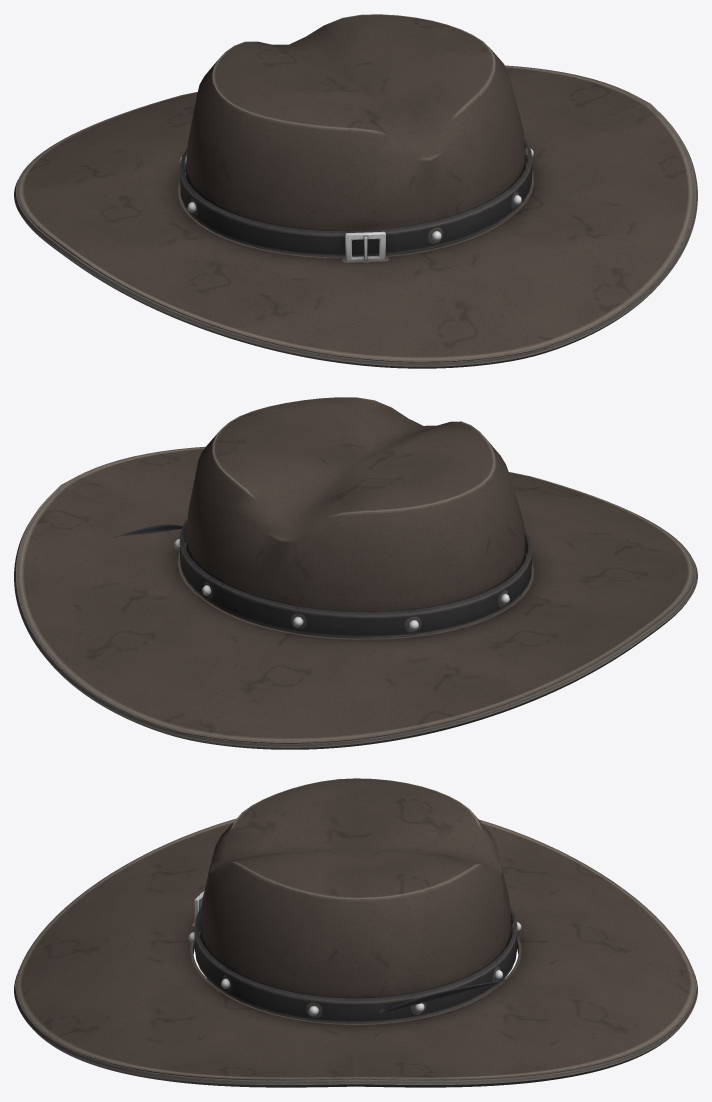
The model's file is NHAcc_HunterHat.fbx.
3 renders of one model, top to bottom at view 1: azimuth 30°, elevation 25°; view 2: azimuth 150°, elevation 25°; view 3: azimuth 270°, elevation 25°, orthographic. The views are drawn at different scales.
Parts seen in each view (by area): view 1: HunterHat; view 2: HunterHat; view 3: HunterHat.
Part boxes in pixels (x1,y1,x2,y2): HunterHat: [14, 14, 697, 368]; HunterHat: [14, 397, 697, 749]; HunterHat: [14, 778, 697, 1087].
Size of the model in its own units: 2.71 by 0.7321 by 2.77.
